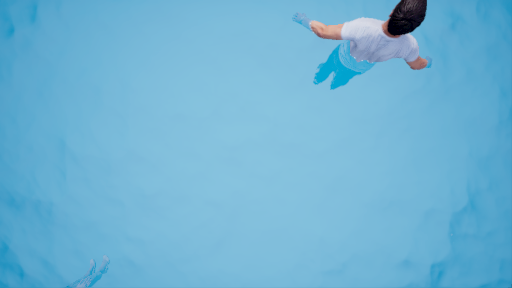person: (290, 2, 445, 93)
